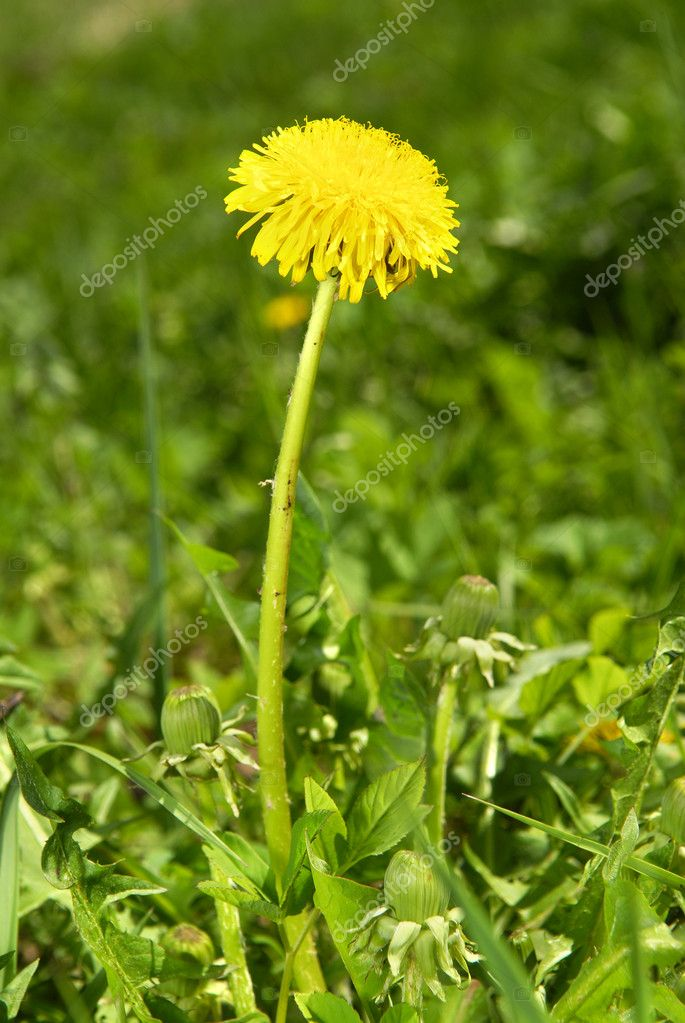dandelion: (217, 101, 471, 316)
